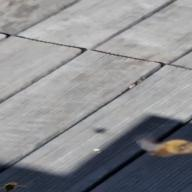Bee: (128, 126, 192, 158)
